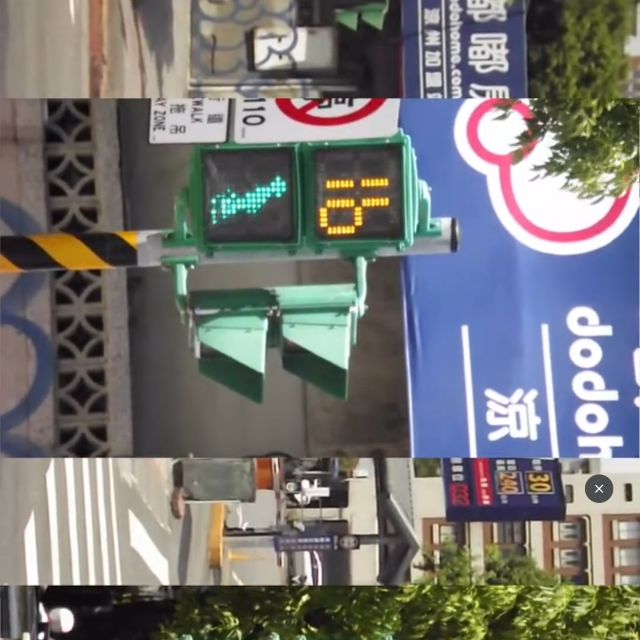green_light: (192, 144, 420, 247)
